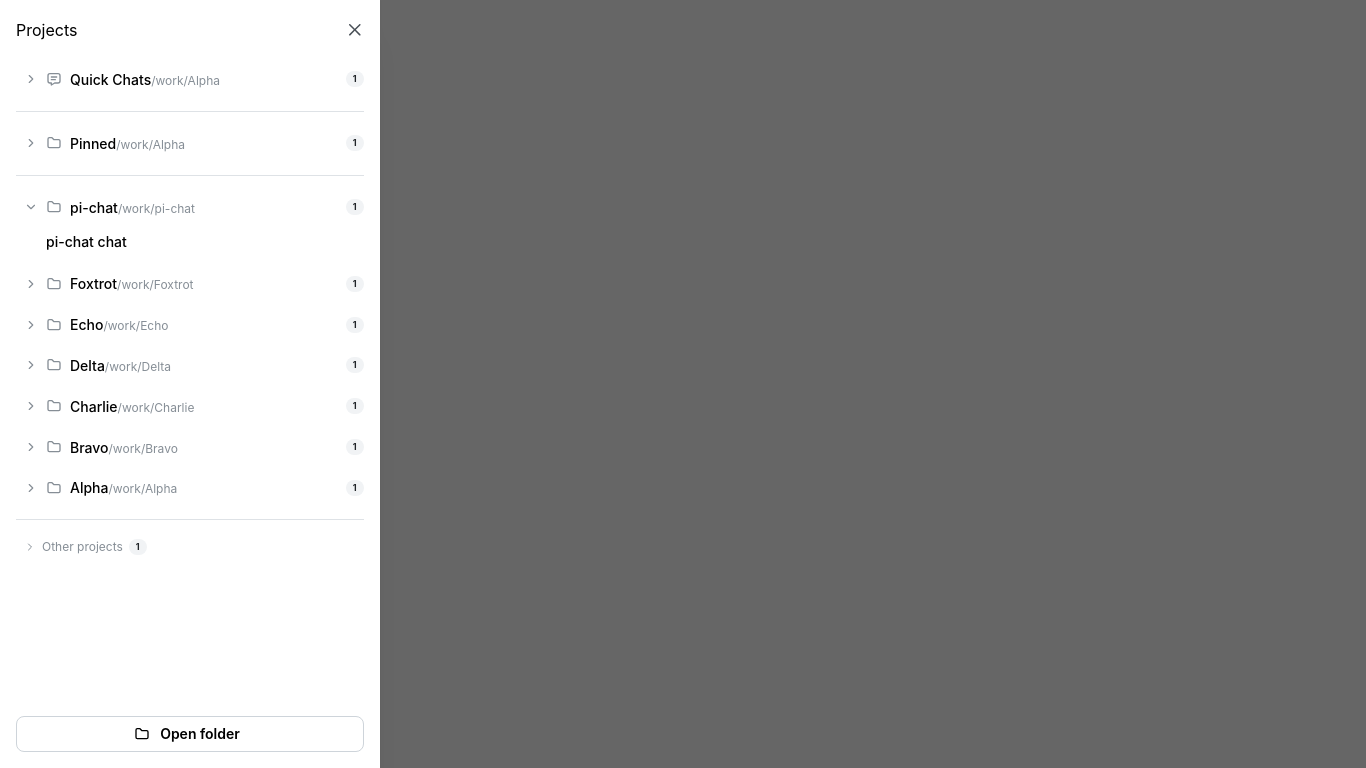
Test: ProjectSessionDrawer › shows every active project in recency order without hiding pi-chat after five projects
Expected: the text "pi-chat chat" is shown, x1=46 y1=233 x2=127 y2=250
Click the button "Other projects 1" at coordinates (82, 547), box x1=16 y1=532 x2=364 y2=563
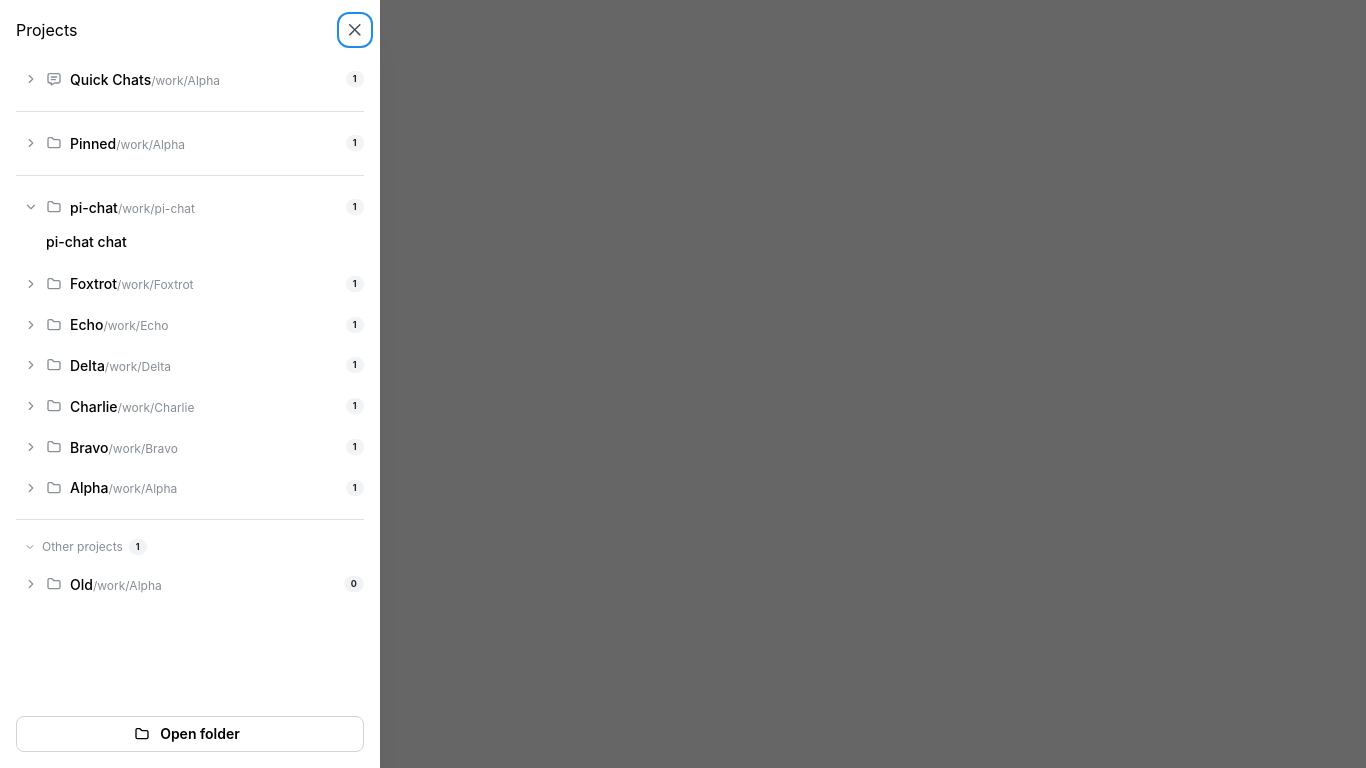
Expected: the text "Old" is shown, x1=70 y1=576 x2=93 y2=593
